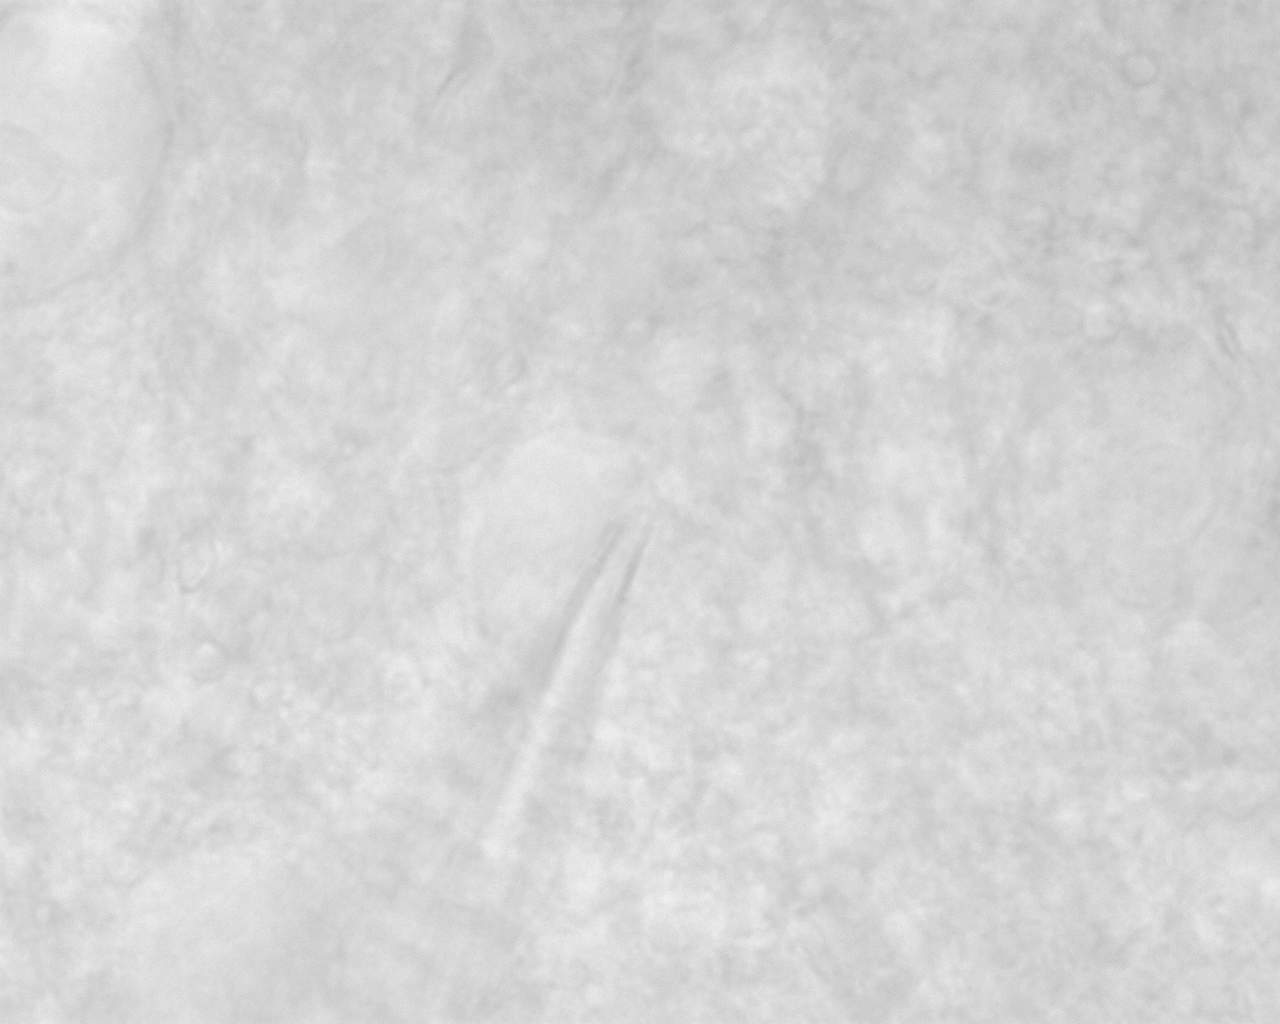neuron: (82, 834, 356, 1024), (478, 418, 649, 561)
